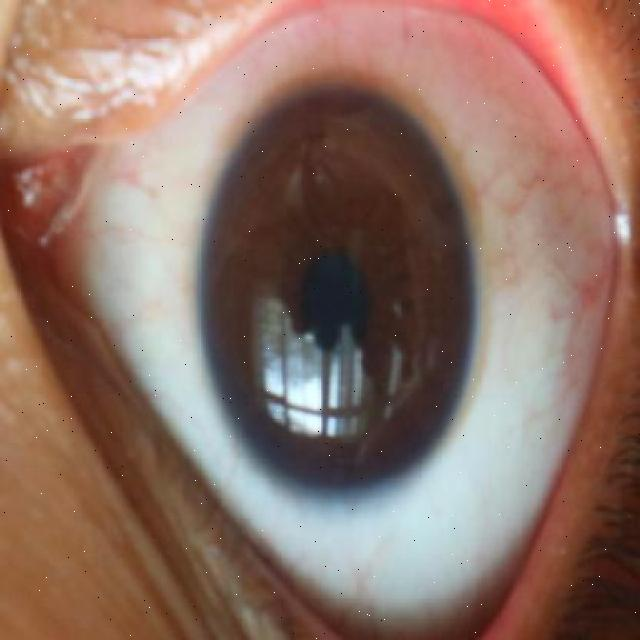Normal: (200, 86, 478, 503)
